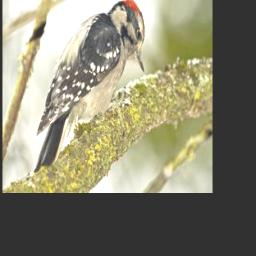Woodpecker: (24, 0, 145, 179)
